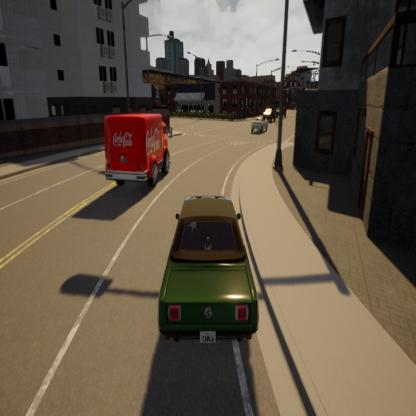Cars: (157, 195, 261, 348), (103, 113, 172, 188), (250, 118, 268, 133), (263, 105, 275, 122), (274, 105, 286, 117)
